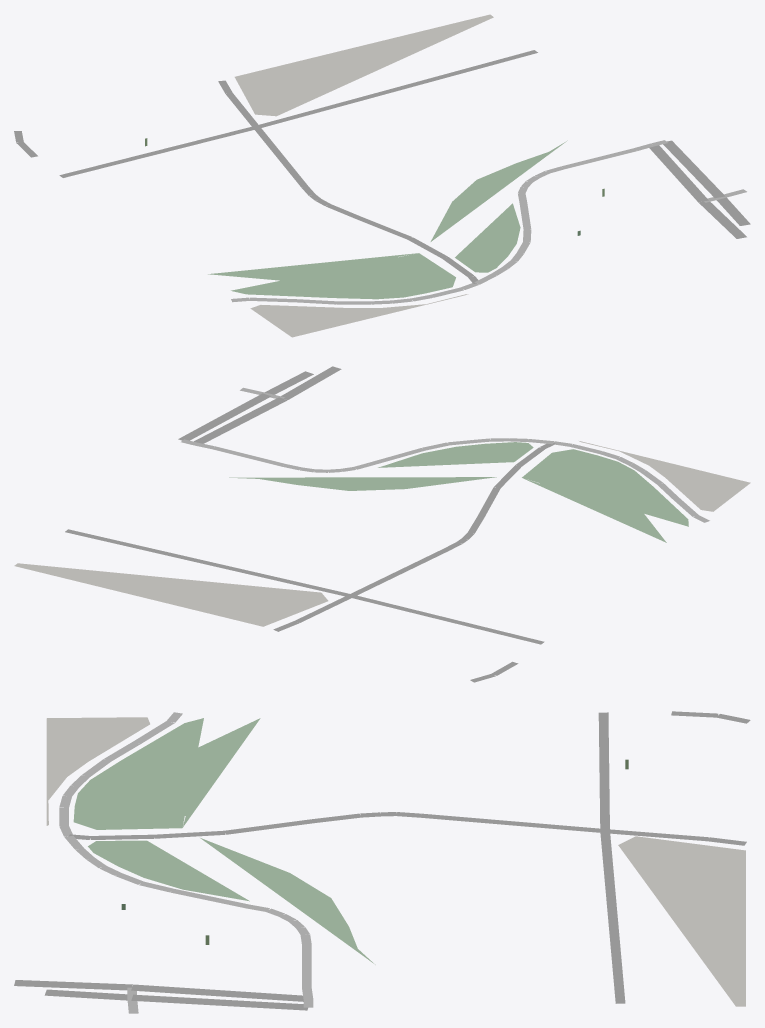
3 views of the same model, one above another, from view 1: azimuth 30°, elevation 25°; view 2: azimuth 150°, elevation 25°; view 3: azimuth 270°, elevation 25° (orthographic). The views are drawn at different scales.
Size of the model in its own units: 517 by 9.96 by 527.
